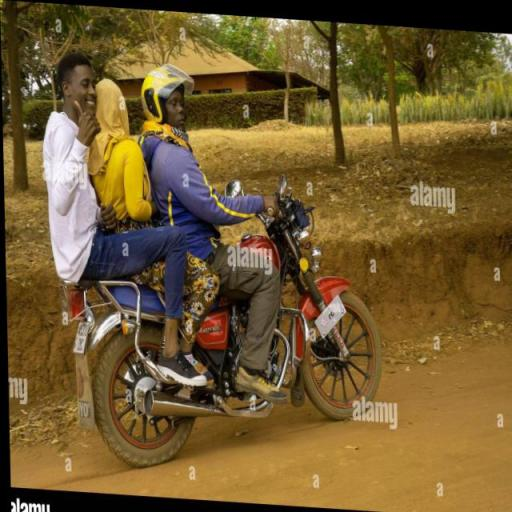tripple riding: (40, 45, 286, 396)
